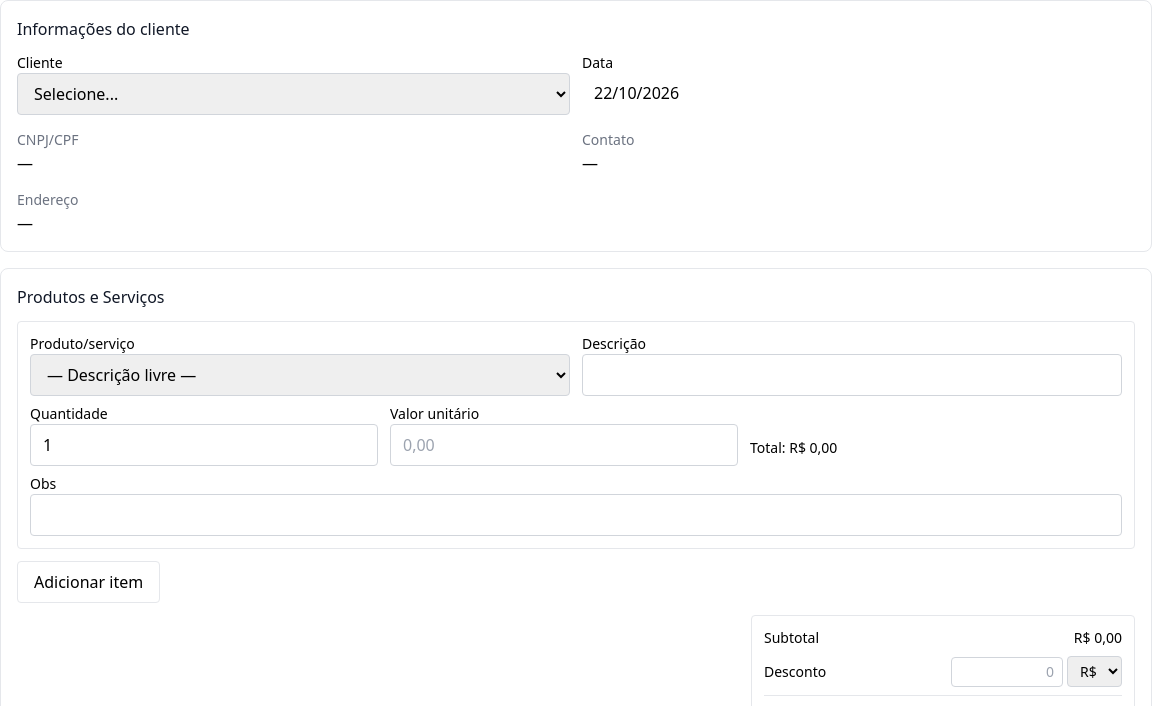
PedidoForm — item de produto › produto m² mostra largura/altura e calcula o total ao vivo
Select "Lona 440" in the dropdown labelled "Produto/serviço" at (300, 375), box [30,354,570,396]
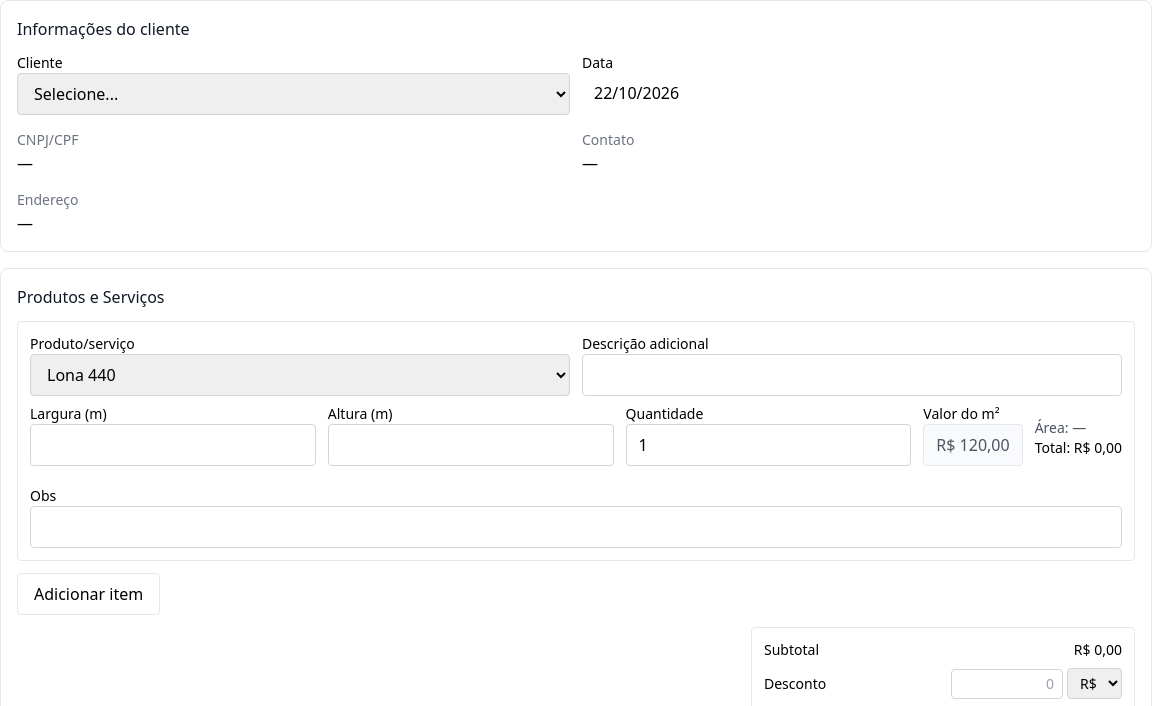
Type "1,5" into the field labelled "Largura (m)" at (173, 445), box [30,424,316,466]
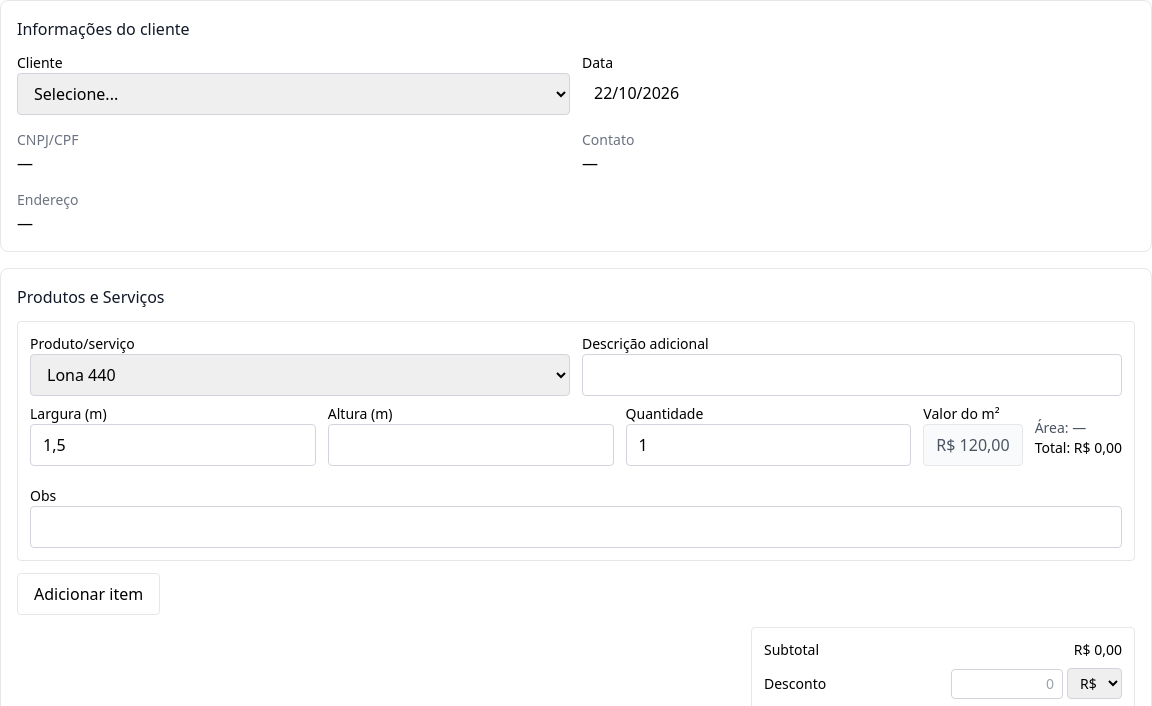
Type "2" into the field labelled "Altura (m)" at (471, 445), box [328,424,614,466]
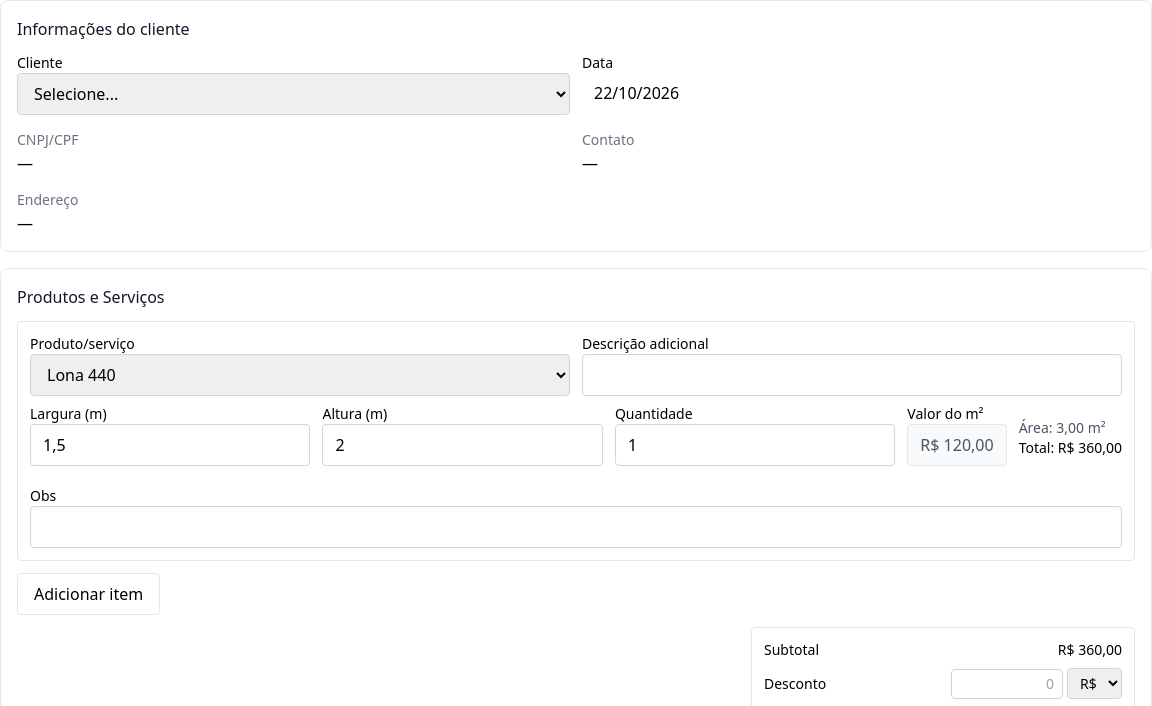
Check: the text with test id "total-item-0" reads "R$ 360,00", box [1058,438,1122,457]
